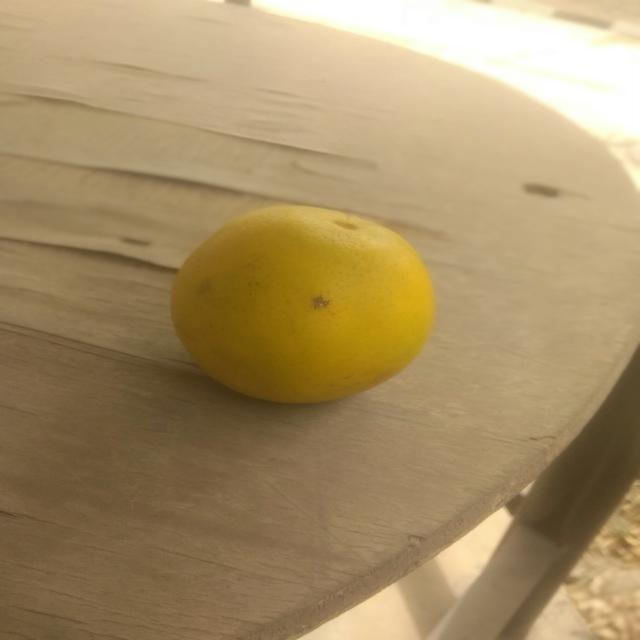Ripe orange: (162, 194, 450, 412)
